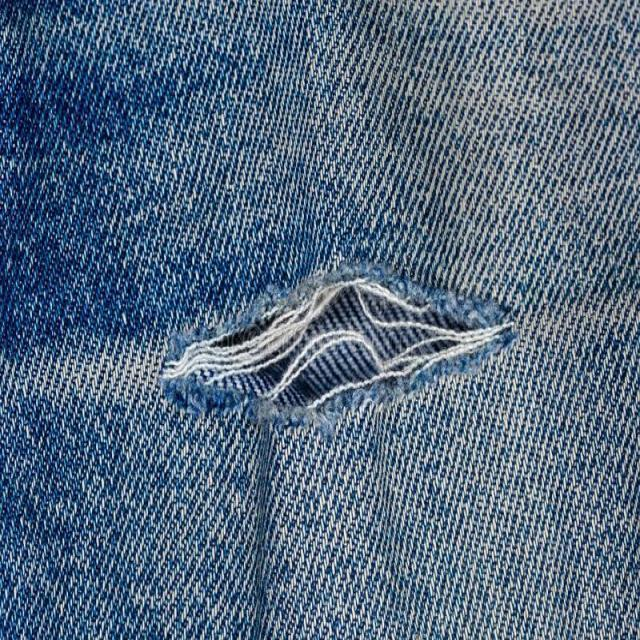Hole: (161, 265, 517, 434)
